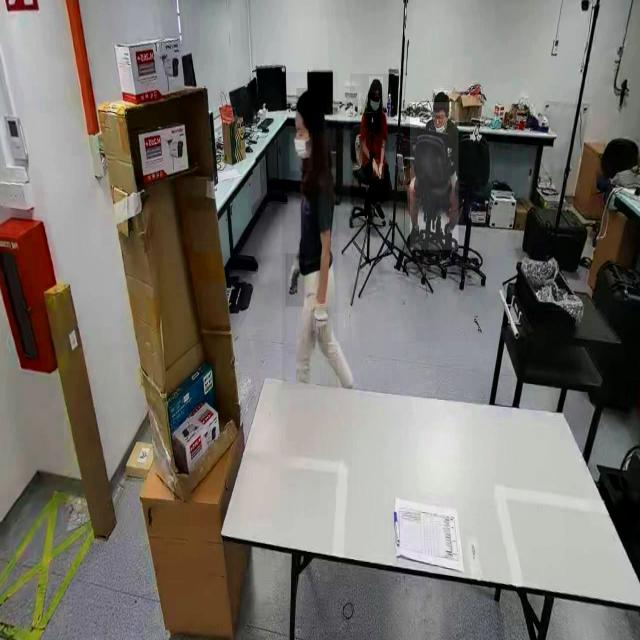face_mask: (290, 133, 312, 171), (368, 94, 381, 118)
hand_glove: (285, 254, 305, 308), (310, 307, 332, 343)
hand_noglove: (372, 159, 380, 178), (378, 163, 384, 180)
head_nohelmet: (296, 88, 326, 113), (434, 90, 452, 108), (369, 76, 383, 94)
person: (282, 72, 338, 390), (409, 102, 458, 251), (349, 74, 388, 218)
shoes: (405, 221, 425, 255)
